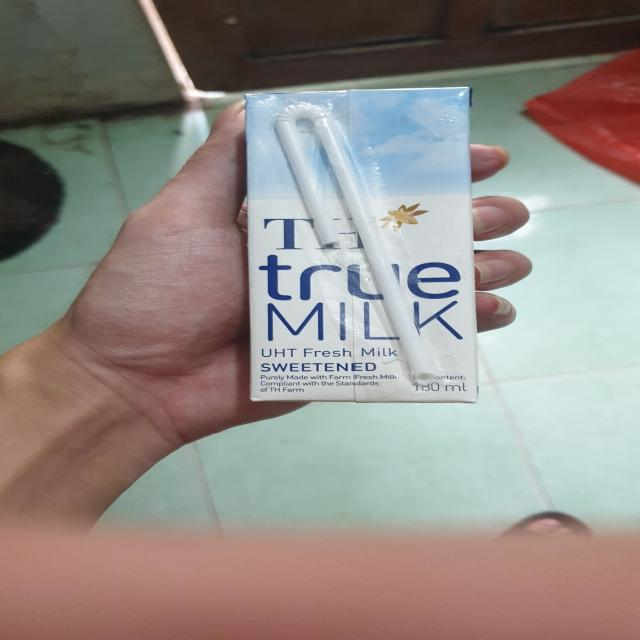TH: (249, 88, 478, 403)
